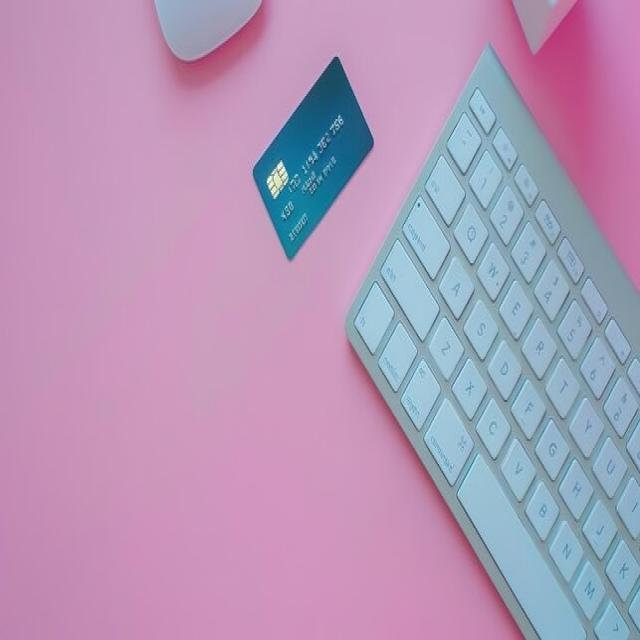payment_card: (250, 54, 374, 260)
